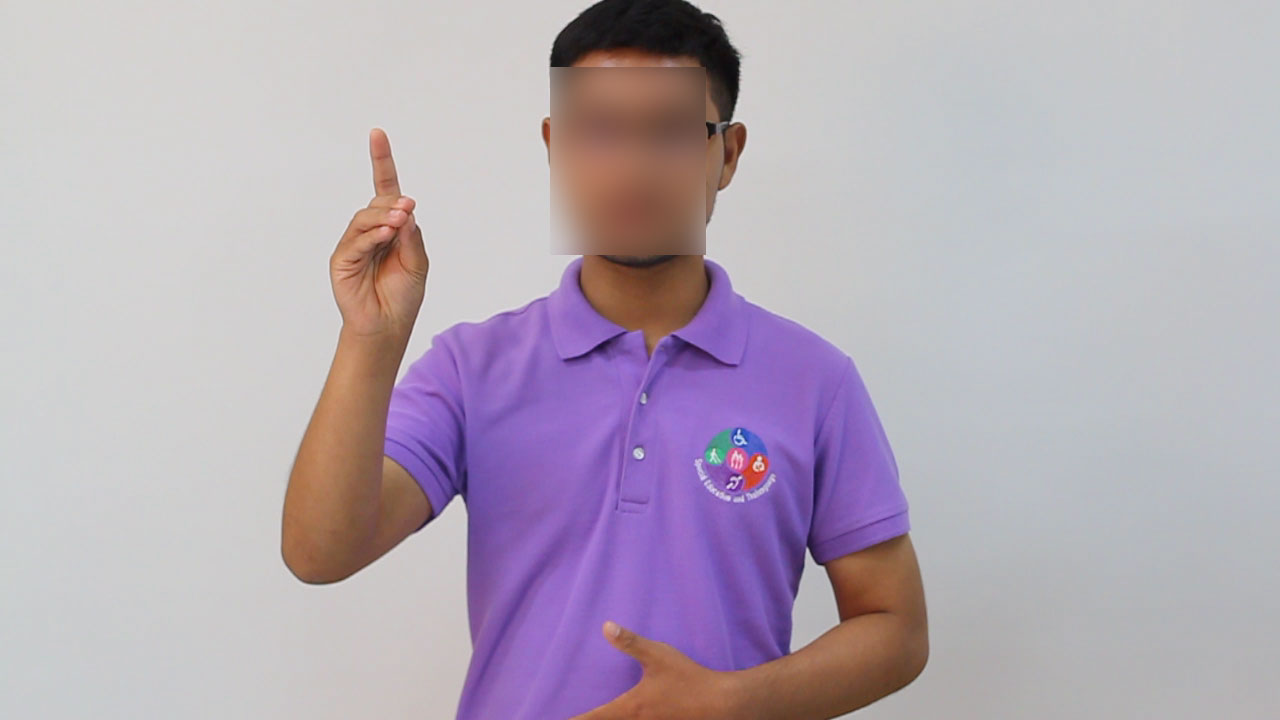dor: (319, 119, 434, 361)
